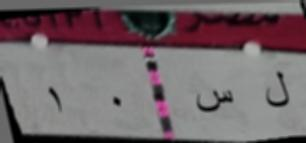0: (107, 89, 127, 111)
1: (42, 81, 69, 114)
laam: (260, 67, 295, 112)
seen: (192, 85, 235, 115)
